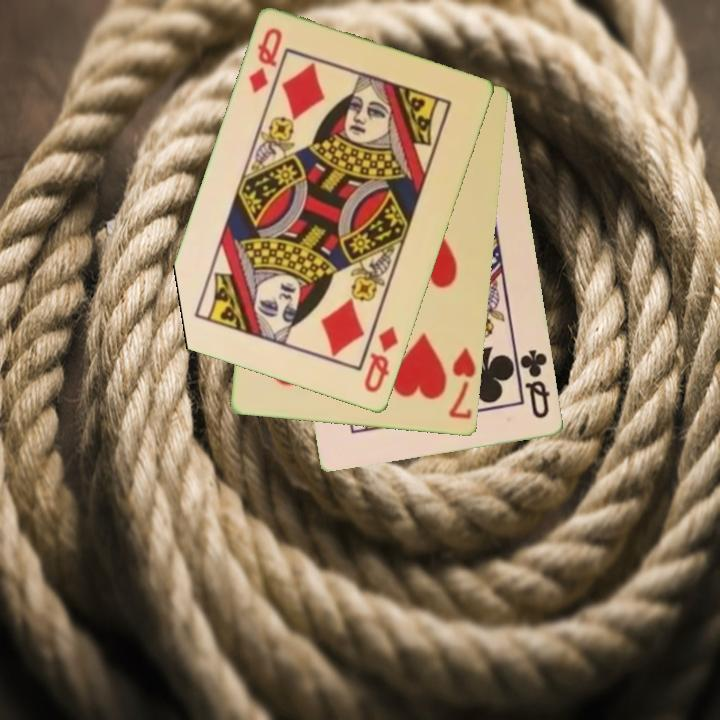7h: (446, 344, 479, 422)
Qc: (517, 346, 553, 422)
Qd: (360, 323, 402, 396), (245, 25, 286, 97)
